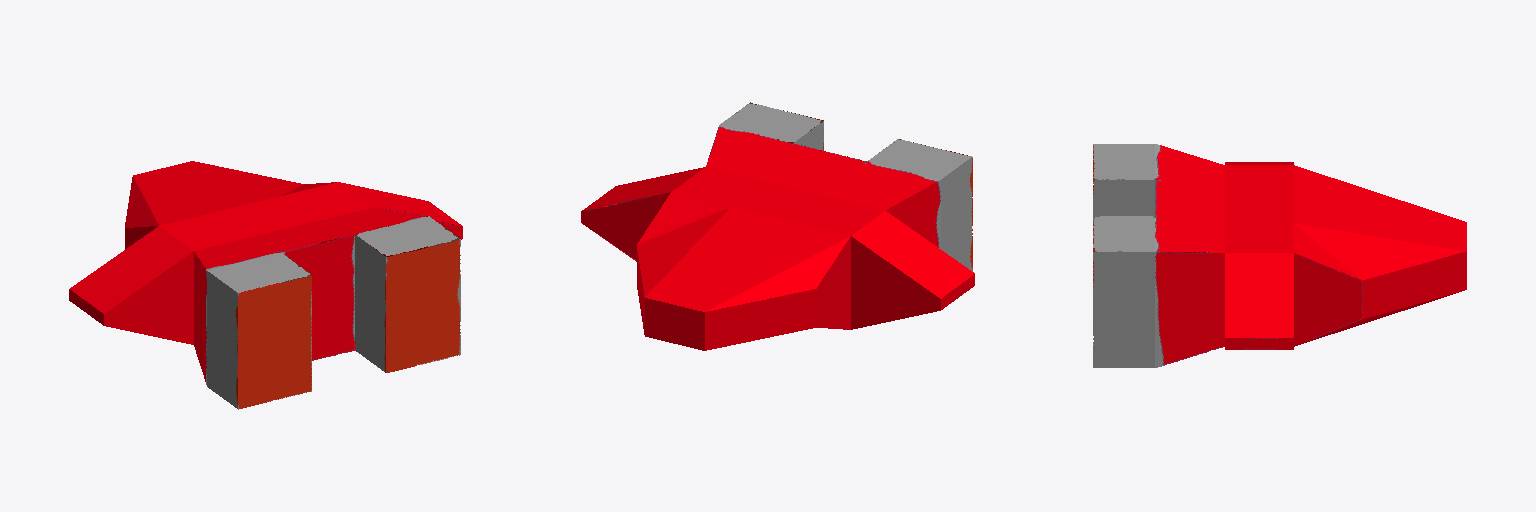
The picture shows the model from 3 angles: view 1: azimuth 30°, elevation 25°; view 2: azimuth 150°, elevation 25°; view 3: azimuth 270°, elevation 25°; orthographic projection.
Visible parts, largest first — view 1: Cube; view 2: Cube; view 3: Cube.
Boxes of the visible parts, <box> form: Cube: <box>69,161,462,409</box>; Cube: <box>581,102,974,350</box>; Cube: <box>1093,144,1466,367</box>.
Bounding box in the file's own units: 4 × 1.24 × 3.6.
1 materials, 1 textured.